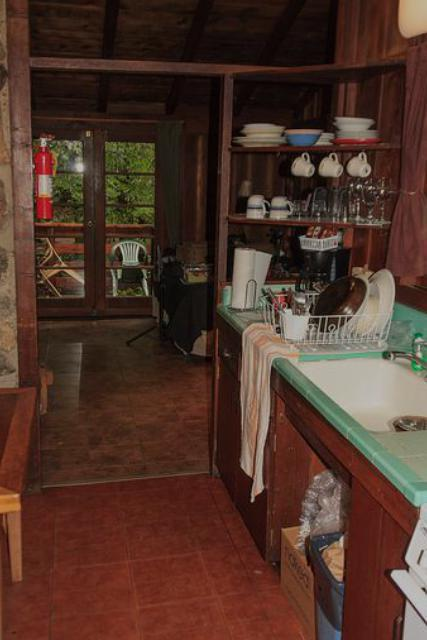Bote de Basura: (299, 520, 393, 640)
Lavaplatos: (284, 342, 427, 447)
